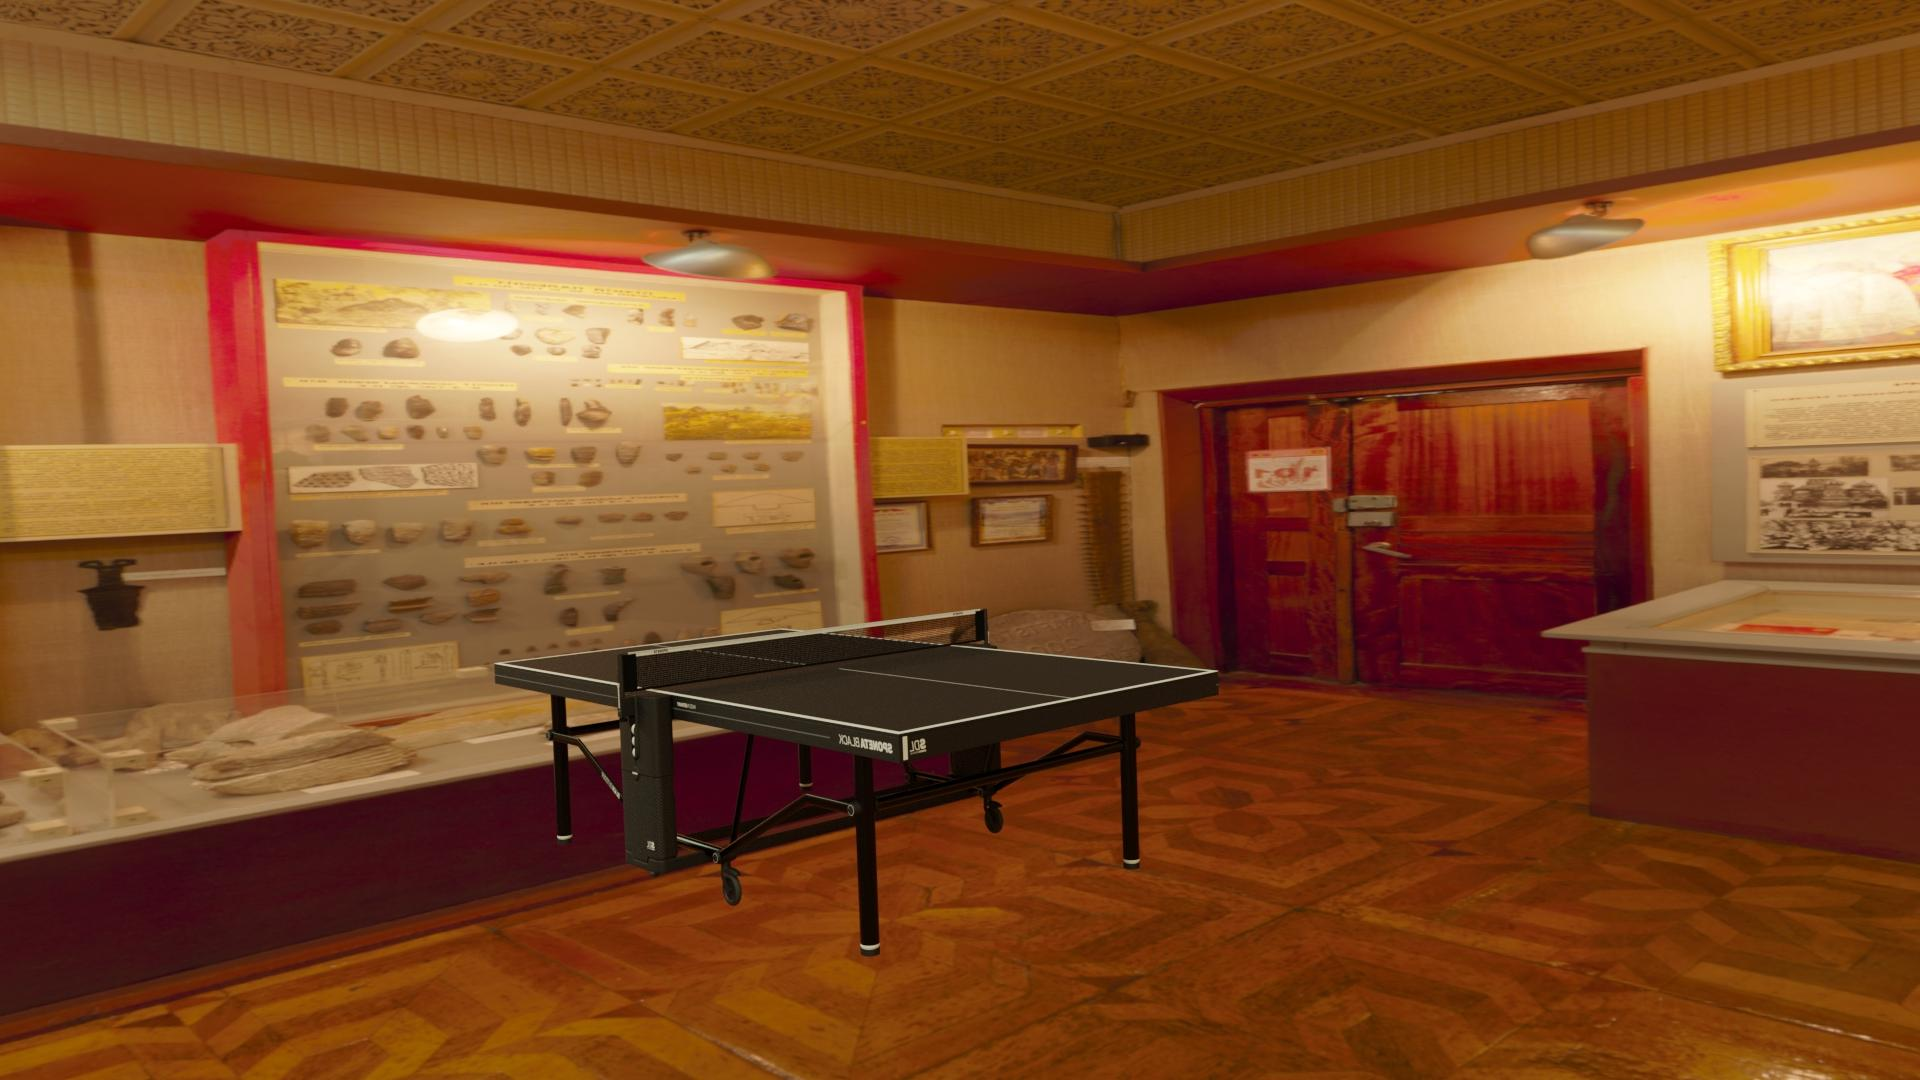table: (500, 629, 1211, 732)
